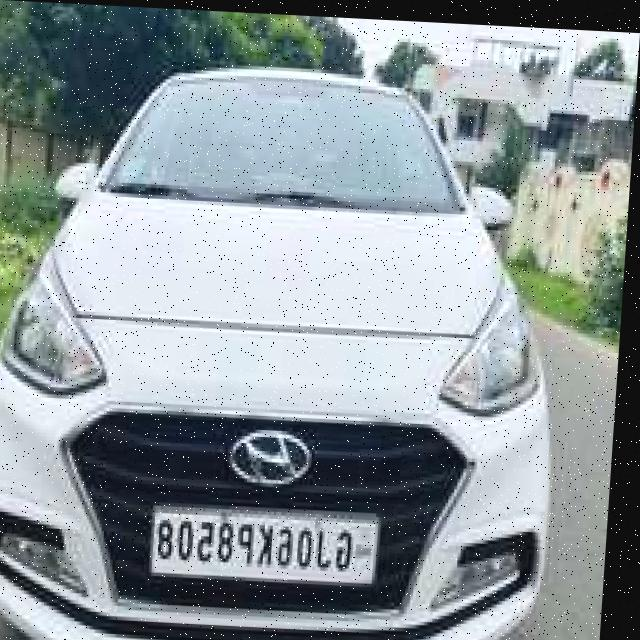plate: (159, 502, 384, 584)
